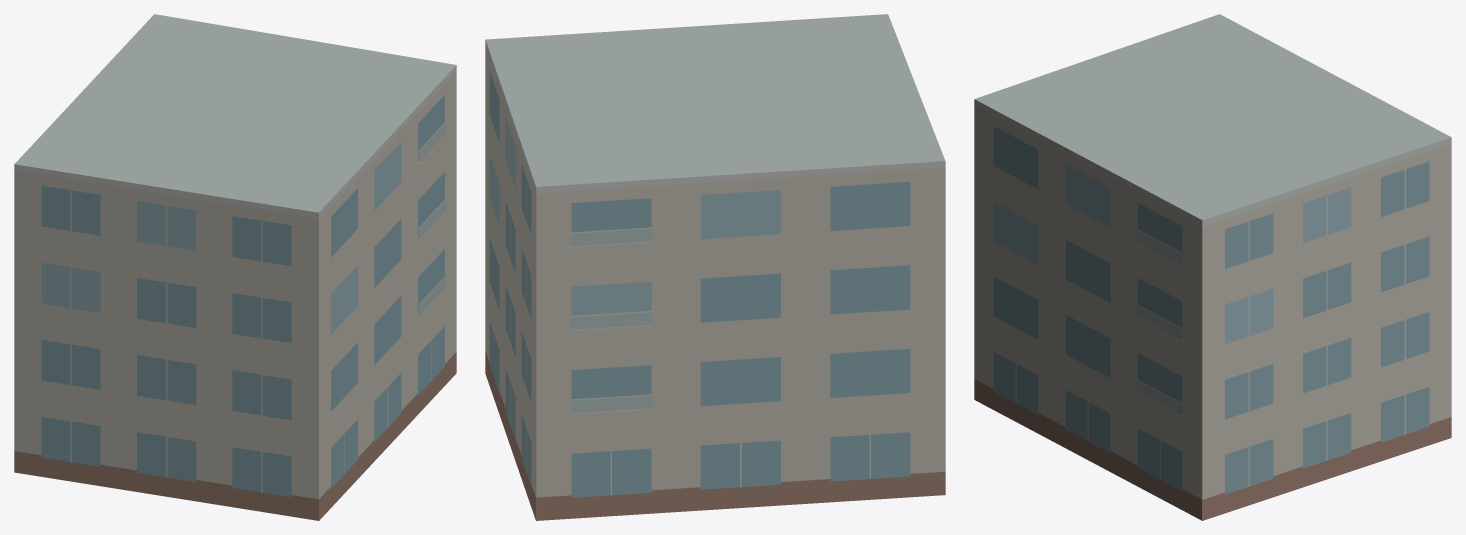
Rendered from survey-upis-32843171.glb.
The picture shows the model from 3 angles, left to right: view 1: azimuth 30°, elevation 25°; view 2: azimuth 150°, elevation 25°; view 3: azimuth 270°, elevation 25°; orthographic projection. The views are drawn at different scales.
Visible parts, largest first — view 1: survey-upis-32843171.tmp; view 2: survey-upis-32843171.tmp; view 3: survey-upis-32843171.tmp.
Part boxes in pixels (x1,y1,x2,y2): survey-upis-32843171.tmp: (14, 14, 456, 520); survey-upis-32843171.tmp: (485, 14, 945, 520); survey-upis-32843171.tmp: (974, 14, 1451, 520).
Bounding box in the file's own units: 17.96 × 12.2 × 17.57.
